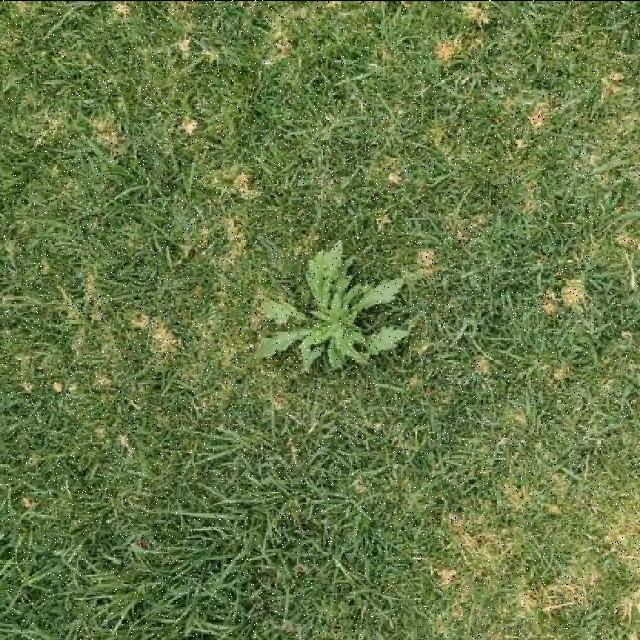weed: (257, 240, 408, 369)
